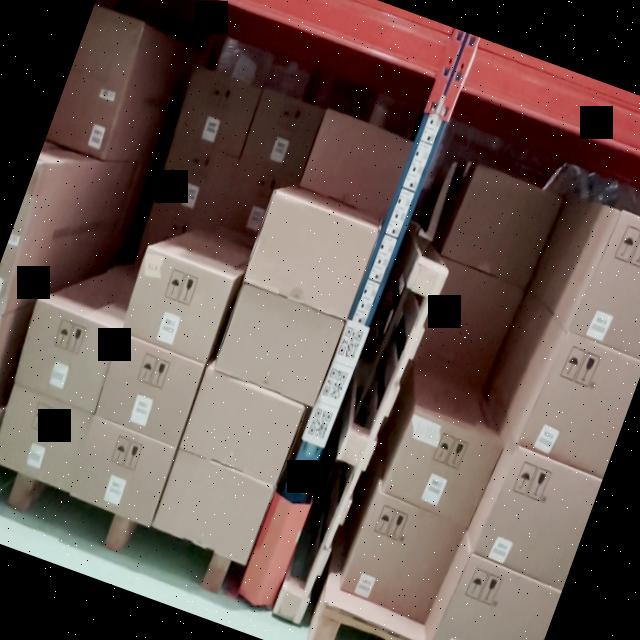box: (243, 192, 380, 319), (478, 449, 602, 589), (525, 336, 640, 478), (213, 287, 344, 406), (179, 369, 305, 484), (344, 497, 461, 618), (447, 168, 558, 284), (416, 265, 524, 384), (154, 454, 274, 560), (122, 250, 235, 362), (385, 414, 497, 525), (66, 417, 178, 525), (300, 111, 412, 216), (96, 338, 204, 442), (13, 306, 117, 412), (433, 556, 557, 640), (0, 389, 94, 492), (578, 211, 640, 359), (176, 70, 260, 156), (242, 92, 324, 176), (152, 141, 236, 223), (220, 161, 278, 234)
